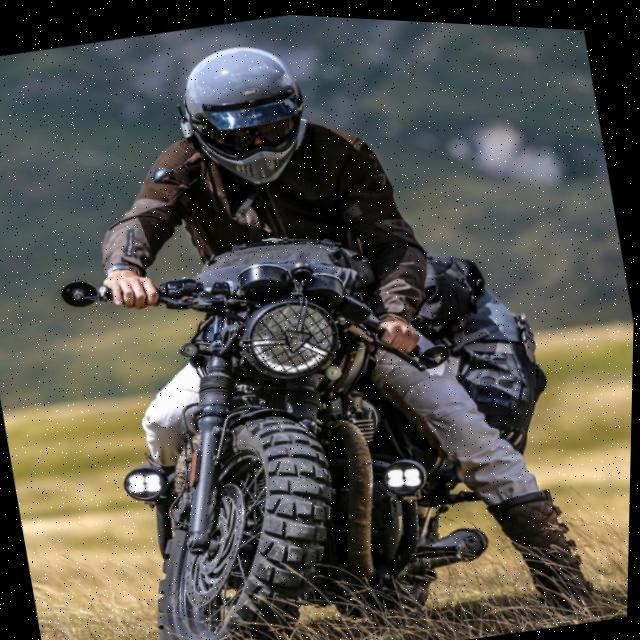helmet: (161, 26, 326, 203)
